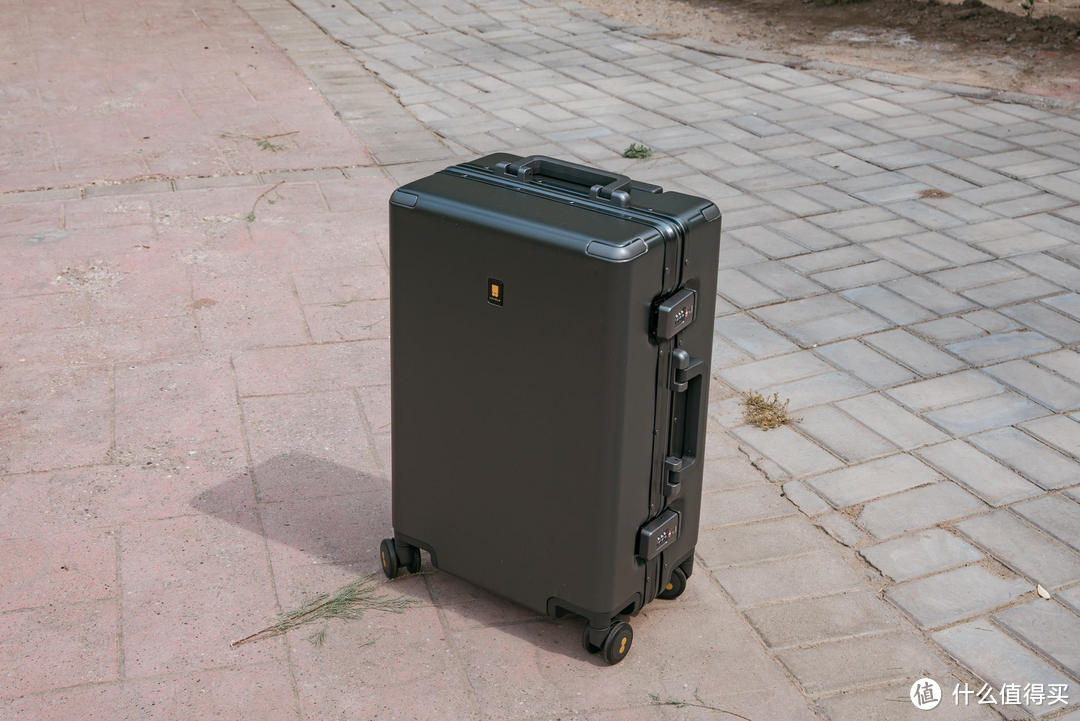box: (389, 154, 721, 621)
handle: (495, 154, 632, 207), (663, 349, 709, 495)
lock: (641, 507, 683, 560), (657, 286, 698, 339)
wheel: (583, 617, 633, 666), (380, 537, 421, 579), (656, 567, 687, 600)
